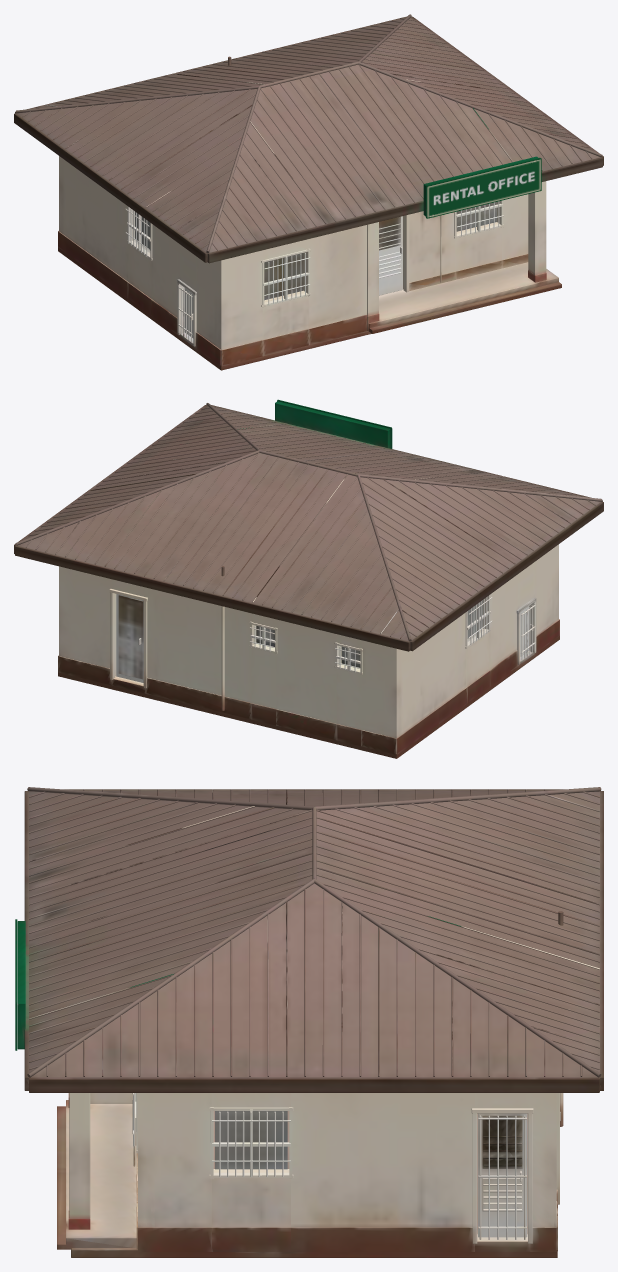
Rendered from rental_office.glb.
The picture shows the model from 3 angles, top to bottom: view 1: azimuth 30°, elevation 25°; view 2: azimuth 150°, elevation 25°; view 3: azimuth 270°, elevation 25°; orthographic projection. The views are drawn at different scales.
Parts seen in each view (by area): view 1: rental_office; view 2: rental_office; view 3: rental_office.
Part boxes in pixels (x1=…): rental_office: x1=14, y1=14, x2=603, y2=370; rental_office: x1=14, y1=399, x2=603, y2=758; rental_office: x1=15, y1=787, x2=603, y2=1257.
Size of the model in its own units: 11.4 by 5.35 by 9.8.
2 materials, 2 textured.
